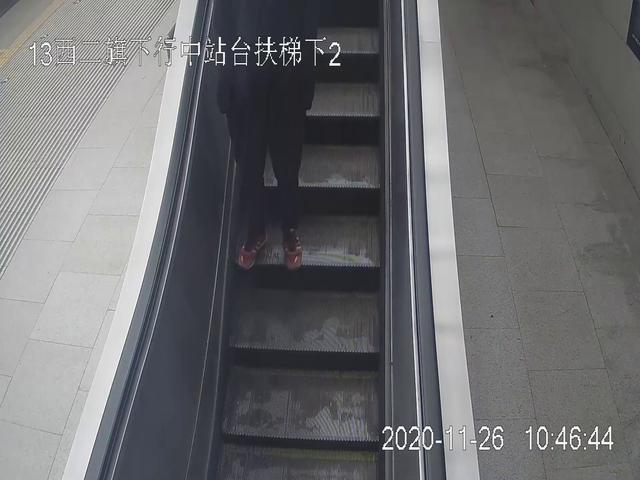person: (213, 1, 316, 271)
